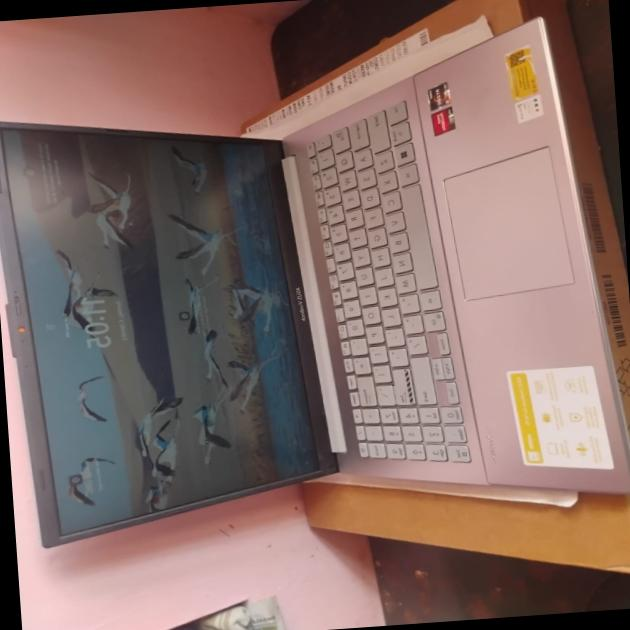laptop: (0, 24, 630, 569)
